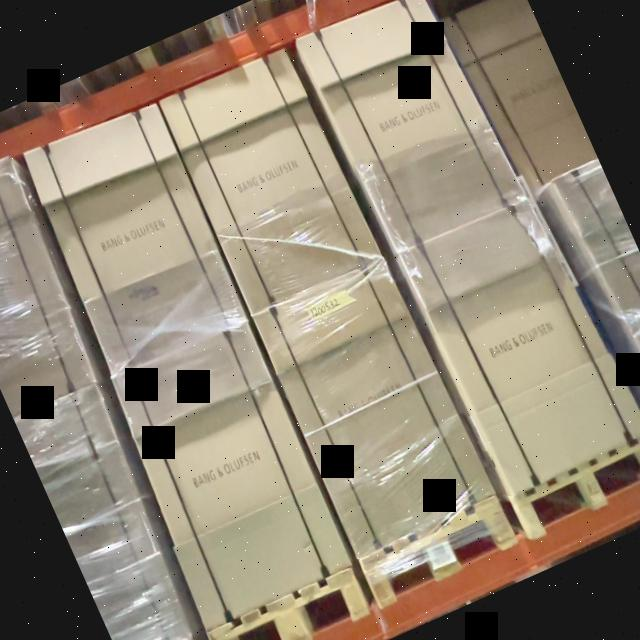box: (114, 323, 354, 621), (254, 260, 492, 557), (403, 199, 632, 493), (27, 106, 246, 374), (159, 46, 377, 312), (303, 0, 515, 254)
